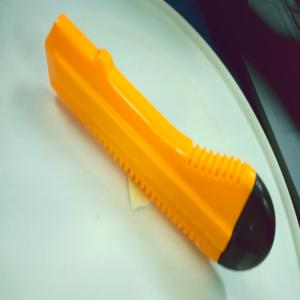estilete: (45, 14, 276, 272)
